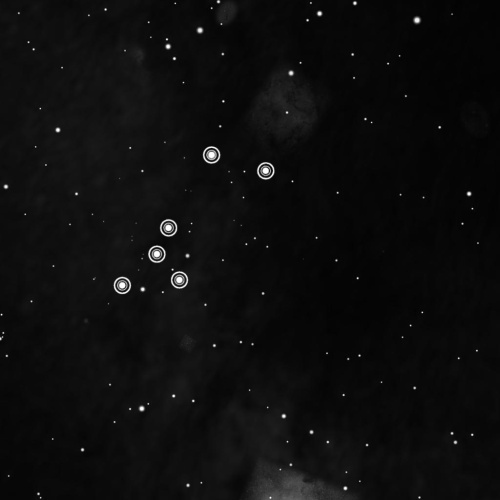canis_major: (108, 141, 279, 299)
